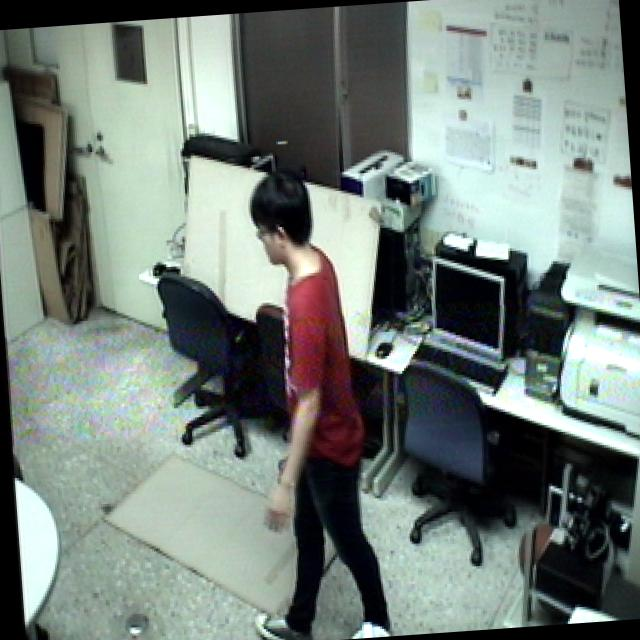stand: (217, 159, 392, 640)
